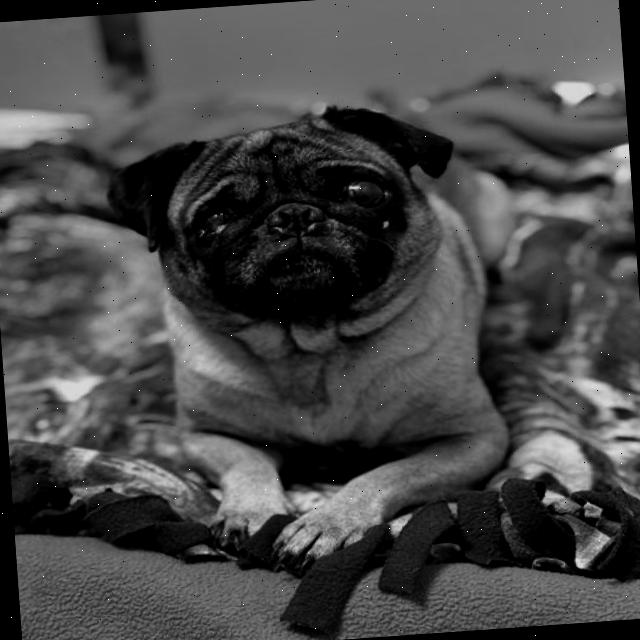pug_dog: (98, 88, 494, 366)
